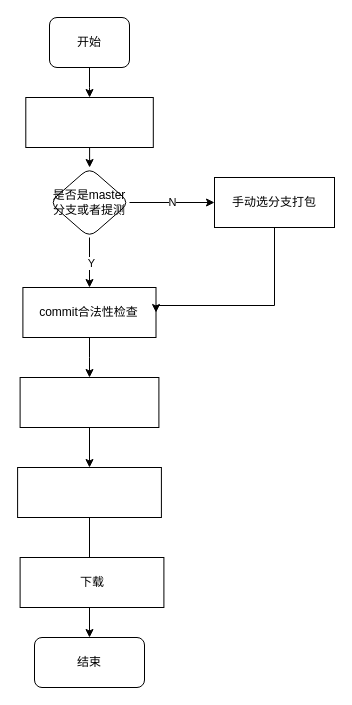
Image size: 352x705. Some labels were removed from this diagram. Each missing label, with the box of its shape:
上传包管理平台: (17, 466, 161, 518)
提交代码触发流水线: (25, 96, 153, 148)
编译: (19, 376, 159, 428)
